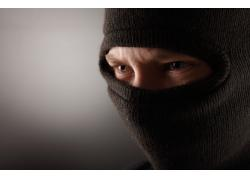OK: (102, 33, 226, 157)
